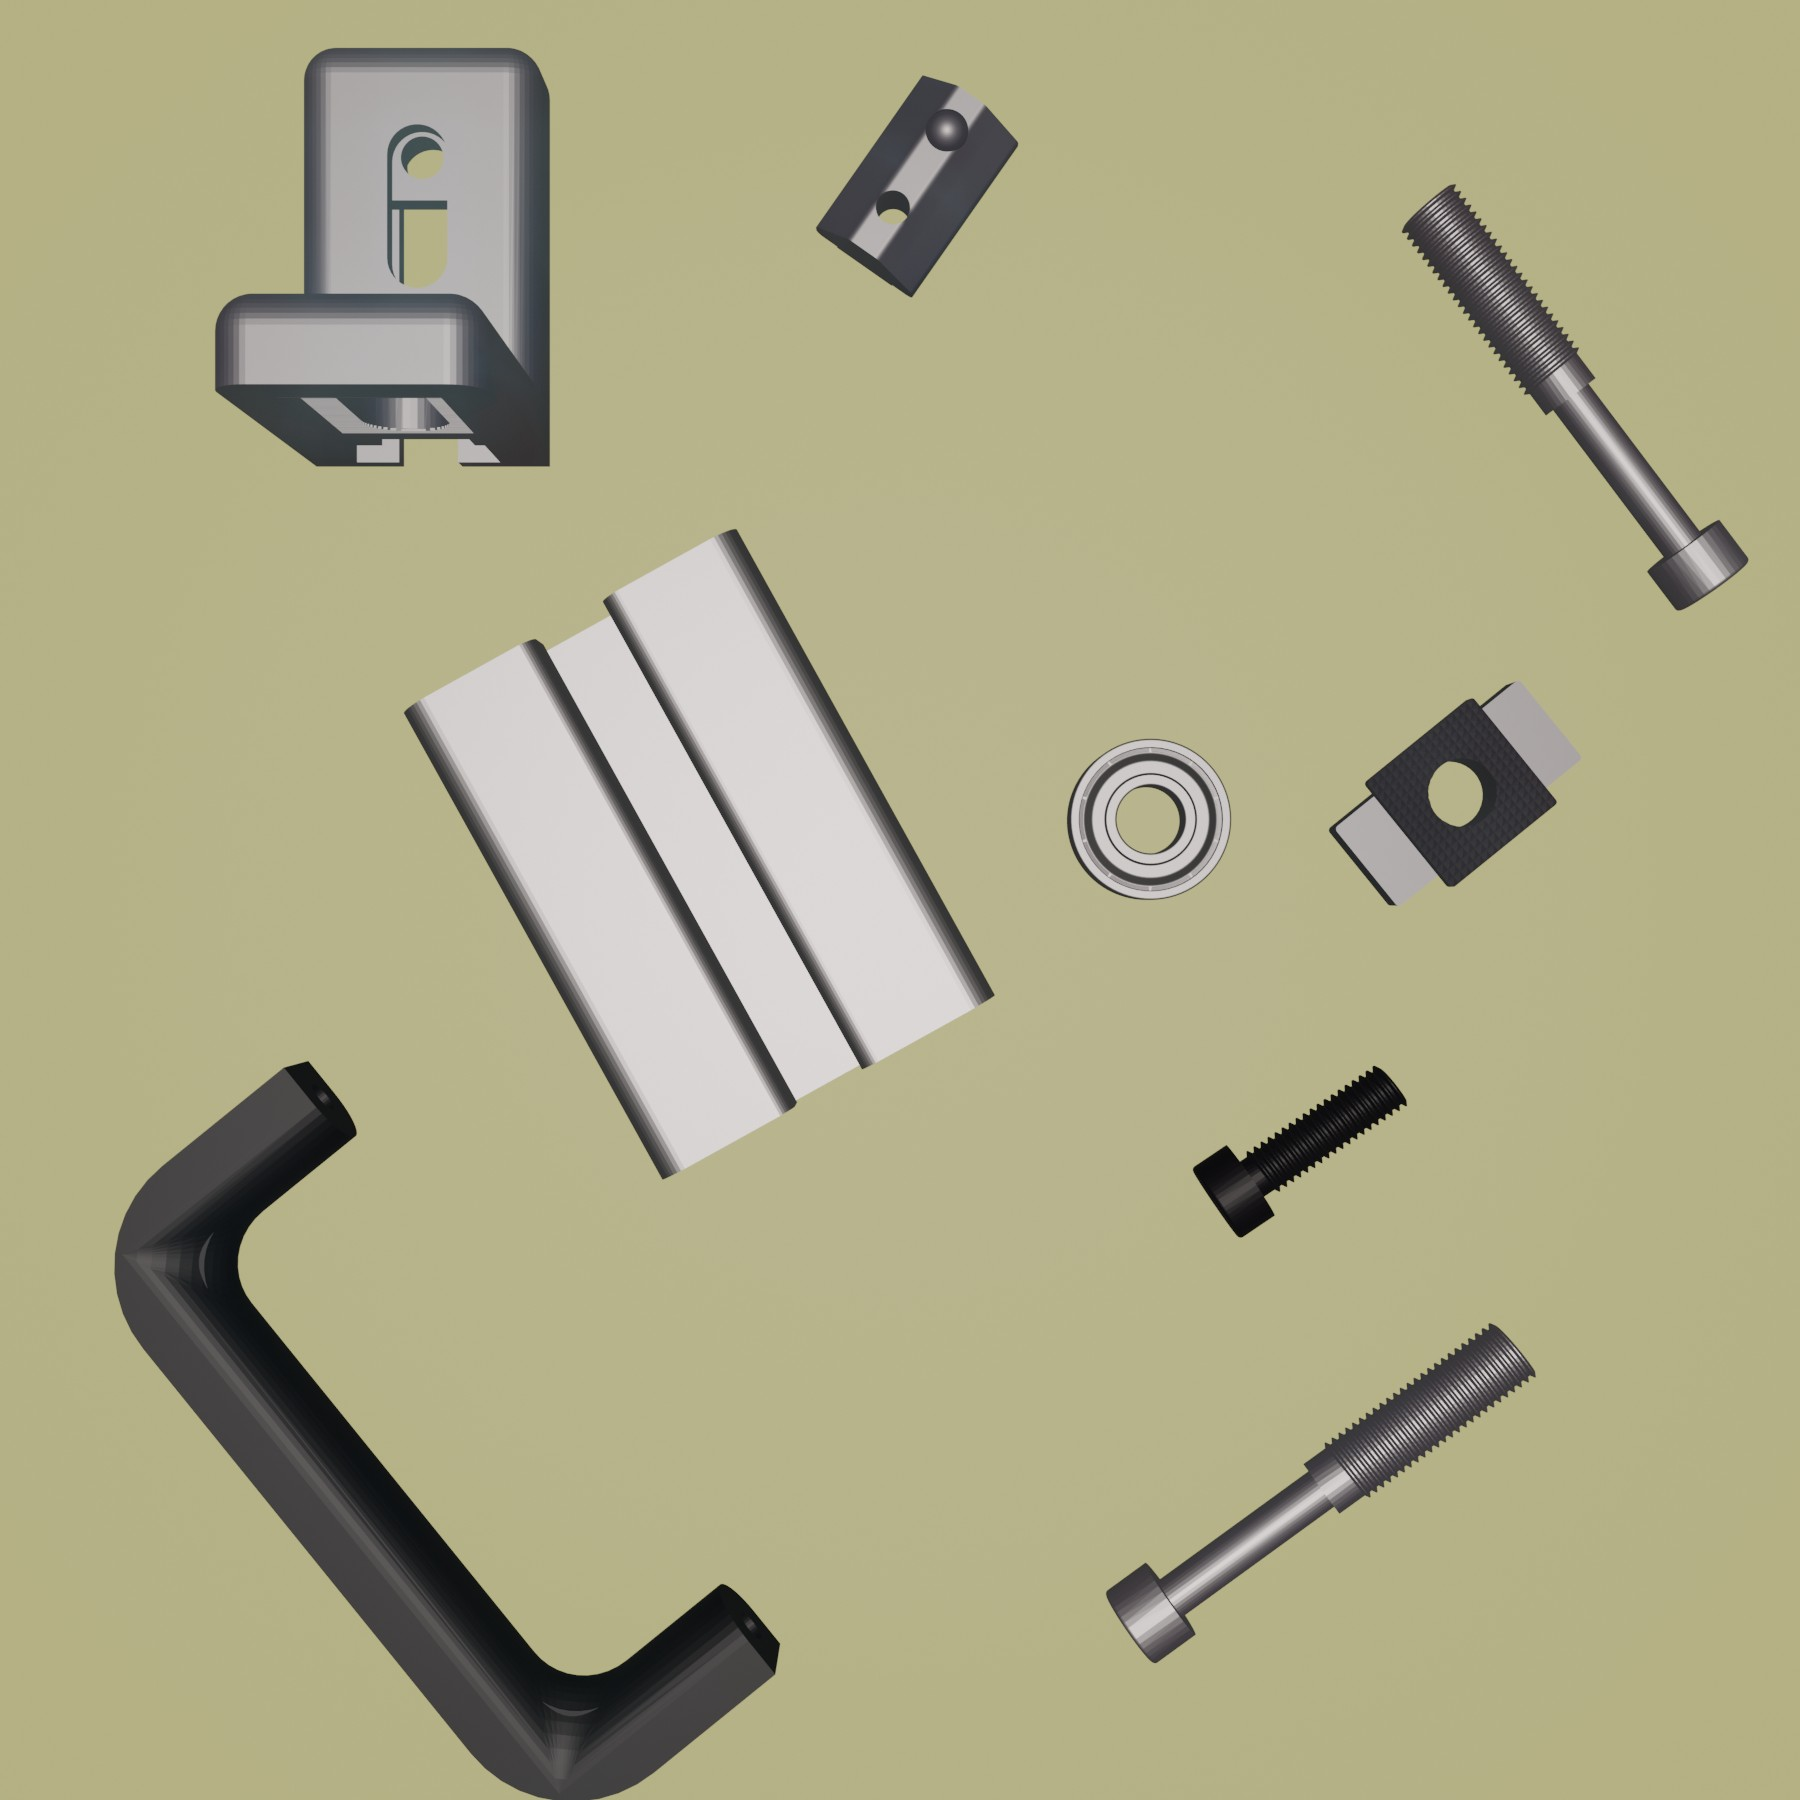Aluminium Extension: (402, 531, 992, 1182)
Ball Bearing: (1065, 735, 1233, 903)
Multiwinkel: (211, 46, 555, 470)
Pull Handle: (114, 1062, 783, 1800)
Shoulder Socket Head Cap Screw: (1401, 181, 1751, 613), (1104, 1319, 1540, 1665)
Socket Head Cap Screw: (1188, 1063, 1413, 1241)
T Nut Square: (1325, 677, 1582, 908)
T Spring Nut: (816, 73, 1024, 298)
